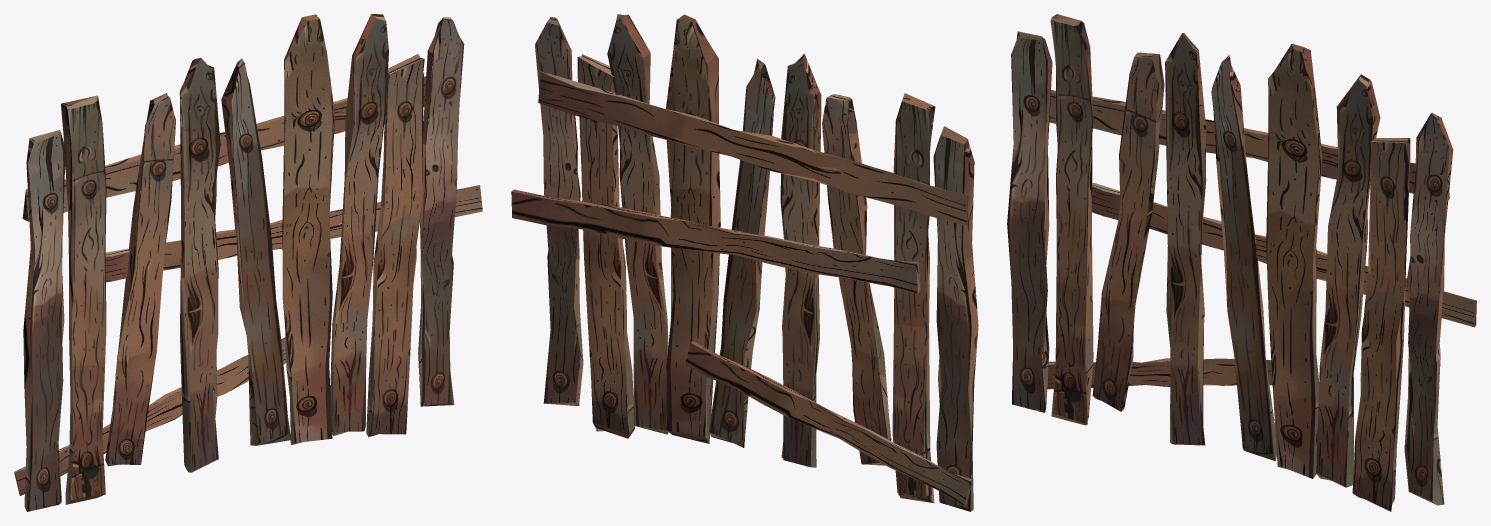
The model's file is fence.fbx.
The picture shows the model from 3 angles, left to right: view 1: azimuth 30°, elevation 25°; view 2: azimuth 150°, elevation 25°; view 3: azimuth 330°, elevation 25°; orthographic projection.
Parts seen in each view (by area): view 1: fence:Mesh; view 2: fence:Mesh; view 3: fence:Mesh.
Boxes of the visible parts, left/top/right/bottom form: fence:Mesh: left=14, top=14, right=482, bottom=511; fence:Mesh: left=511, top=14, right=978, bottom=511; fence:Mesh: left=1007, top=14, right=1476, bottom=511.
Bounding box in the file's own units: 2.33 × 2.12 × 0.1134.
